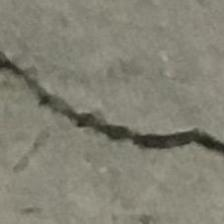Crack: (0, 56, 224, 180)
